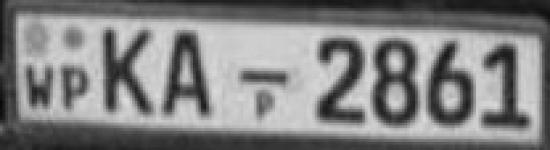-: (236, 63, 293, 89)
1: (479, 34, 537, 136)
2: (306, 28, 371, 128)
6: (423, 37, 481, 131)
8: (372, 35, 428, 128)
A: (160, 27, 224, 125)
K: (96, 23, 160, 124)
P: (59, 61, 94, 115)
W: (24, 58, 56, 110)
